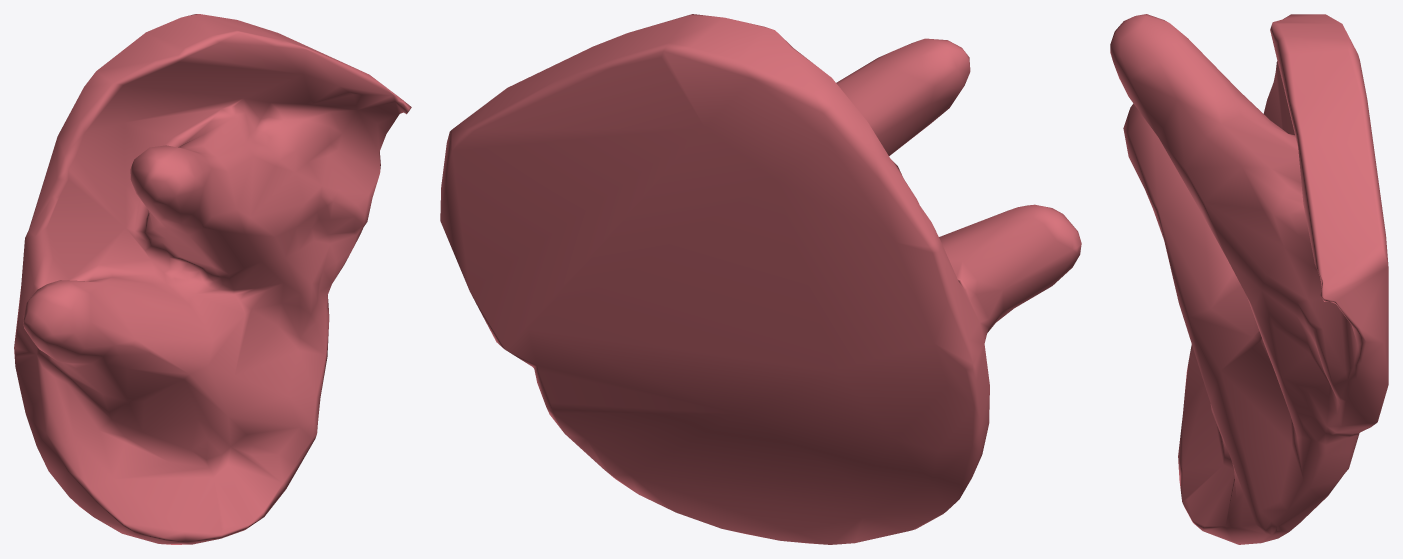
3 renders of one model, left to right at view 1: azimuth 30°, elevation 25°; view 2: azimuth 150°, elevation 25°; view 3: azimuth 270°, elevation 25°, orthographic. The views are drawn at different scales.
Visible parts, largest first — view 1: 右心室后乳头肌; view 2: 右心室后乳头肌; view 3: 右心室后乳头肌.
Boxes of the visible parts, x1,y1,x2,y2 form: 右心室后乳头肌: (14, 14, 411, 544); 右心室后乳头肌: (440, 14, 1081, 544); 右心室后乳头肌: (1110, 14, 1388, 544).
Bounding box in the file's own units: 0.0451 × 0.0436 × 0.0219.
